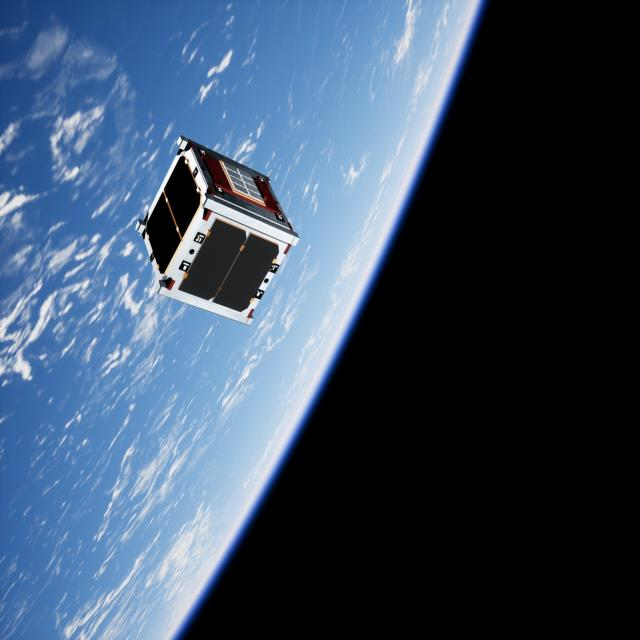satellite: (140, 128, 295, 325)
